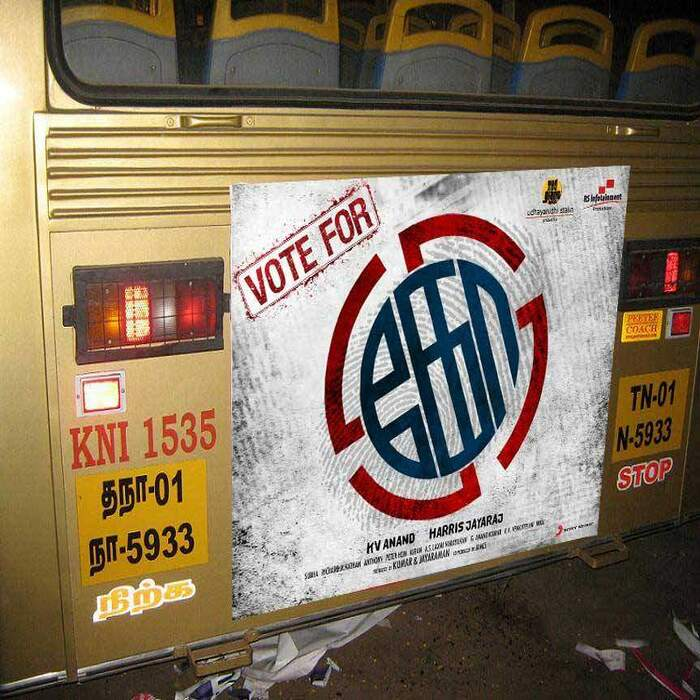n: (74, 467, 210, 573), (618, 370, 693, 464)
